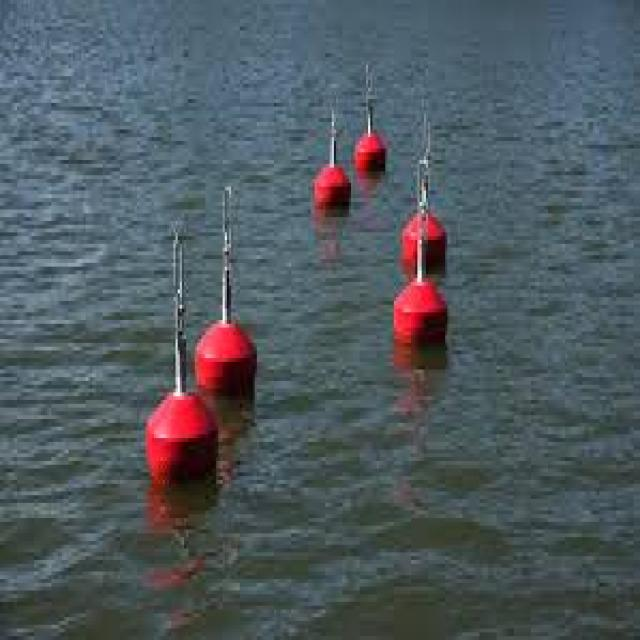buoy: (134, 165, 261, 505), (302, 41, 388, 239), (395, 160, 463, 374)
